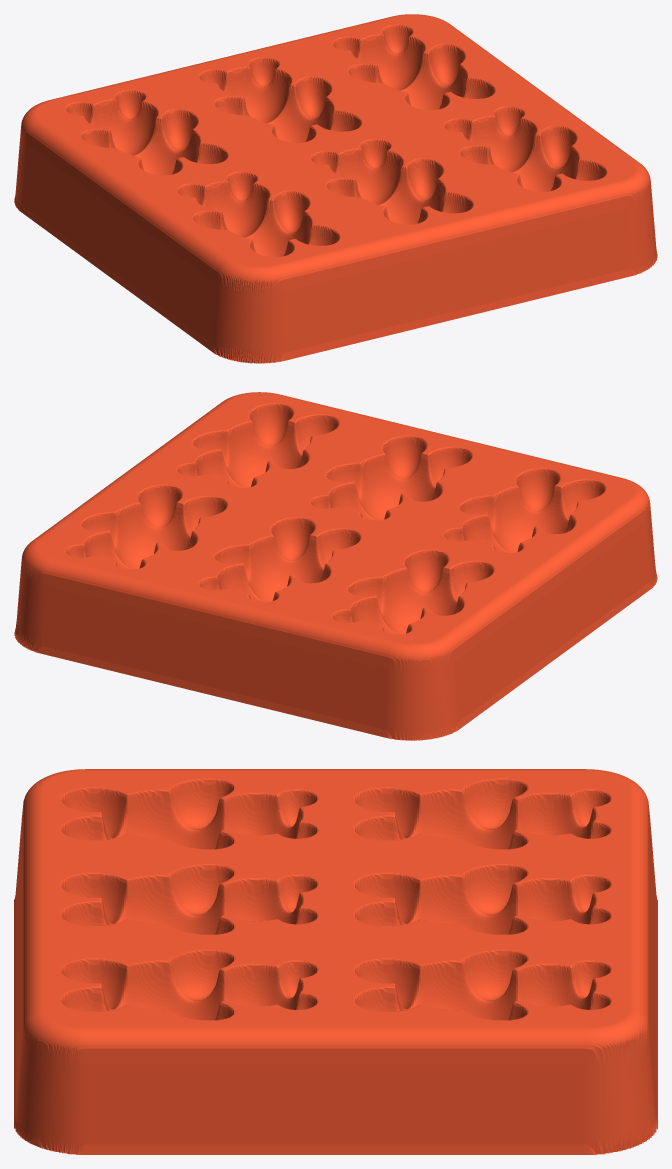
The model's file is mold.glb.
3 renders of one model, top to bottom at view 1: azimuth 30°, elevation 25°; view 2: azimuth 150°, elevation 25°; view 3: azimuth 270°, elevation 25°, orthographic. The views are drawn at different scales.
Parts seen in each view (by area): view 1: geometry_0; view 2: geometry_0; view 3: geometry_0.
Boxes of the visible parts, x1=… form: geometry_0: x1=14, y1=14, x2=657, y2=363; geometry_0: x1=14, y1=392, x2=657, y2=740; geometry_0: x1=14, y1=769, x2=657, y2=1154.
Bounding box in the file's own units: 0.0834 × 0.0159 × 0.0808.
